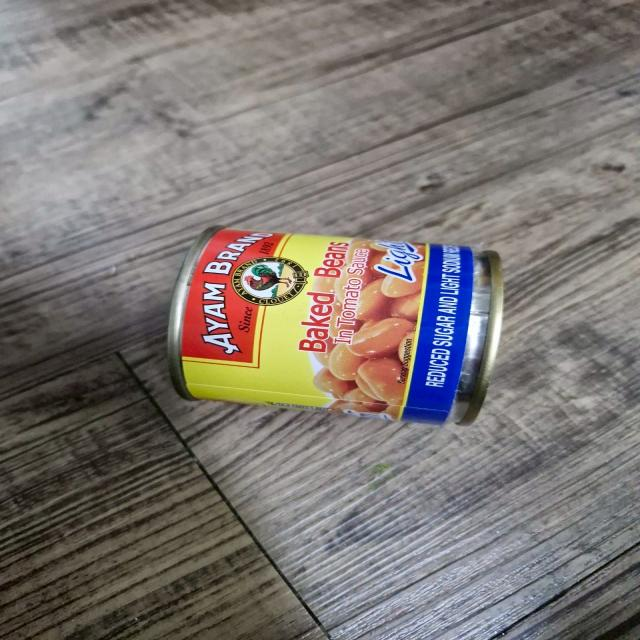can: (168, 205, 508, 433)
